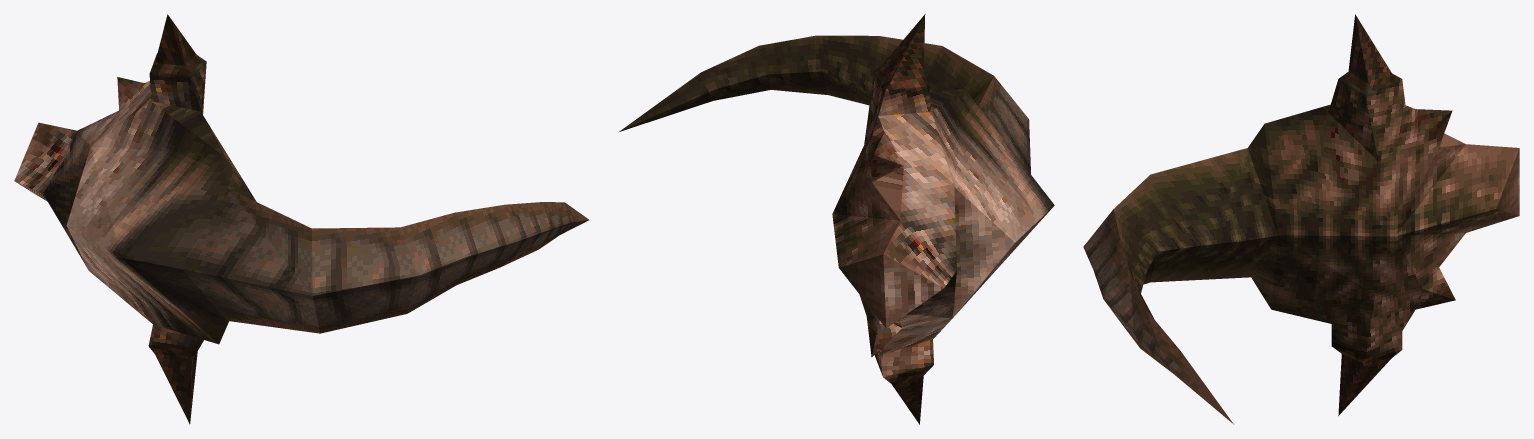
Rendered from wizard.glb.
The picture shows the model from 3 angles, left to right: view 1: azimuth 30°, elevation 25°; view 2: azimuth 150°, elevation 25°; view 3: azimuth 270°, elevation 25°; orthographic projection. The views are drawn at different scales.
Parts seen in each view (by area): view 1: wizard; view 2: wizard; view 3: wizard.
Part boxes in pixels (box(x1,y1,x2,y2)): wizard: box(14, 14, 588, 424); wizard: box(619, 14, 1054, 424); wizard: box(1083, 14, 1519, 424).
Size of the model in its own units: 62.99 by 54.1 by 54.08.
Materials: 1 (1 with a texture image).
